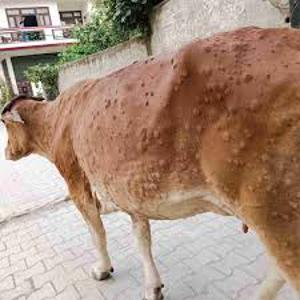lumpy skin diesease: (0, 23, 299, 299)
